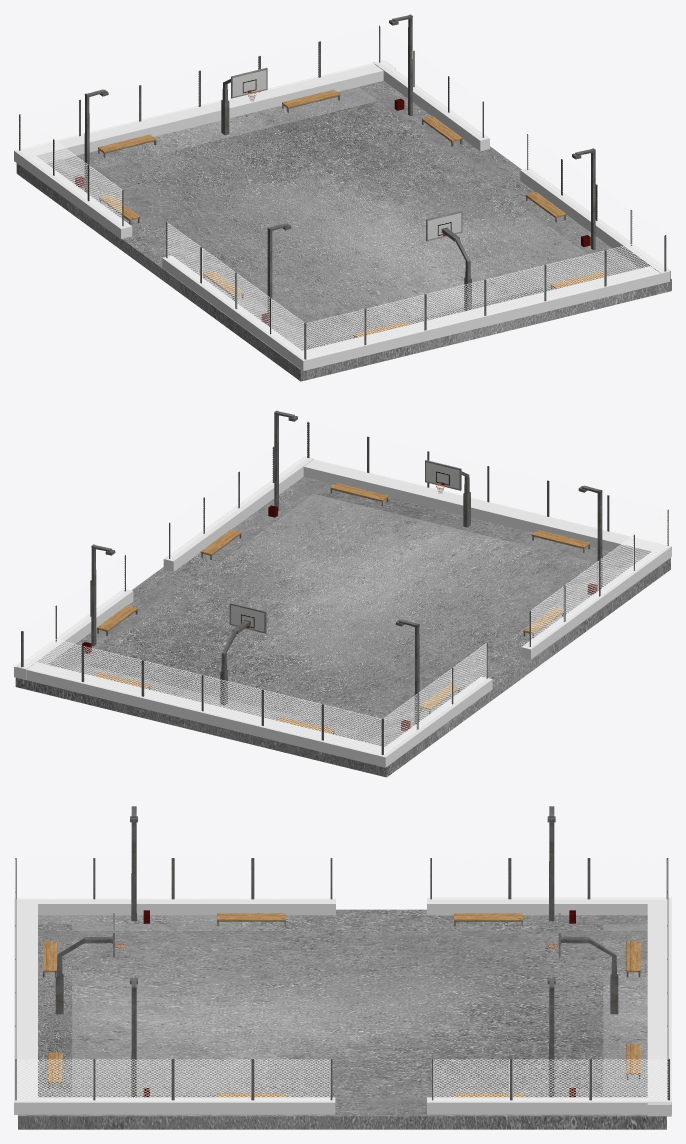
Rendered from BasketBall_Court.glb.
3 renders of one model, top to bottom at view 1: azimuth 30°, elevation 25°; view 2: azimuth 150°, elevation 25°; view 3: azimuth 270°, elevation 25°, orthographic. The views are drawn at different scales.
Parts seen in each view (by area): view 1: Court_Floor, LightPole, Fence_Panel.019, Fence_Panel.016, Fence_Panel.017, Fence_Panel.020, Fence_Panel.018, Fence_Panel.021, Fence_Panel.007, Fence_Panel.010, Fence_Panel.008, Fence_Panel.012 (+19 smaller); view 2: Court_Floor, LightPole, Fence_Panel.019, Fence_Panel.010, Fence_Panel.016, Fence_Panel.008, Fence_Panel.011, Fence_Panel.009, Fence_Panel.007, Fence_Panel.012, Fence_Panel.017, Fence_Panel.020 (+19 smaller); view 3: Court_Floor, LightPole, Fence_Panel.013, Fence_Panel.001, Fence_Panel.025, Fence_Panel.003, Fence_Panel.004, Fence_Panel.015, Fence_Panel.002, Fence_Panel.005, Fence_Panel.024, Fence_Panel.006 (+11 smaller).
Part boxes in pixels (left/top/right/bottom): Court_Floor: left=14, top=60, right=671, bottom=381; LightPole: left=84, top=14, right=595, bottom=327; Fence_Panel.019: left=425, top=279, right=485, bottom=330; Fence_Panel.016: left=605, top=236, right=665, bottom=286; Fence_Panel.017: left=545, top=250, right=605, bottom=300; Fence_Panel.020: left=365, top=294, right=425, bottom=344; Fence_Panel.018: left=485, top=265, right=545, bottom=315; Fence_Panel.021: left=305, top=309, right=365, bottom=359; Fence_Panel.007: left=320, top=26, right=380, bottom=77; Fence_Panel.010: left=140, top=71, right=200, bottom=121; Fence_Panel.008: left=259, top=41, right=319, bottom=91; Fence_Panel.012: left=20, top=100, right=80, bottom=150; Court_Floor: left=14, top=456, right=671, bottom=777; LightPole: left=91, top=410, right=602, bottom=724; Fence_Panel.019: left=488, top=466, right=548, bottom=516; Fence_Panel.010: left=202, top=675, right=262, bottom=725; Fence_Panel.016: left=308, top=422, right=368, bottom=472; Fence_Panel.008: left=82, top=646, right=142, bottom=696; Fence_Panel.011: left=262, top=689, right=322, bottom=740; Fence_Panel.009: left=142, top=660, right=202, bottom=711; Fence_Panel.007: left=22, top=631, right=82, bottom=681; Fence_Panel.012: left=322, top=704, right=382, bottom=754; Fence_Panel.017: left=368, top=437, right=428, bottom=487; Fence_Panel.020: left=548, top=480, right=608, bottom=531; Court_Floor: left=14, top=897, right=671, bottom=1129; LightPole: left=130, top=806, right=555, bottom=1097; Fence_Panel.013: left=430, top=858, right=509, bottom=899; Fence_Panel.001: left=93, top=1059, right=173, bottom=1100; Fence_Panel.025: left=252, top=858, right=332, bottom=899; Fence_Panel.003: left=252, top=1059, right=332, bottom=1100; Fence_Panel.004: left=432, top=1059, right=511, bottom=1100; Fence_Panel.015: left=588, top=858, right=668, bottom=899; Fence_Panel.002: left=173, top=1059, right=252, bottom=1100; Fence_Panel.005: left=511, top=1059, right=590, bottom=1100; Fence_Panel.024: left=173, top=858, right=252, bottom=899; Fence_Panel.006: left=590, top=1059, right=669, bottom=1100.
Size of the model in its own units: 18.15 by 5.19 by 24.33.
13 materials, 7 textured.
